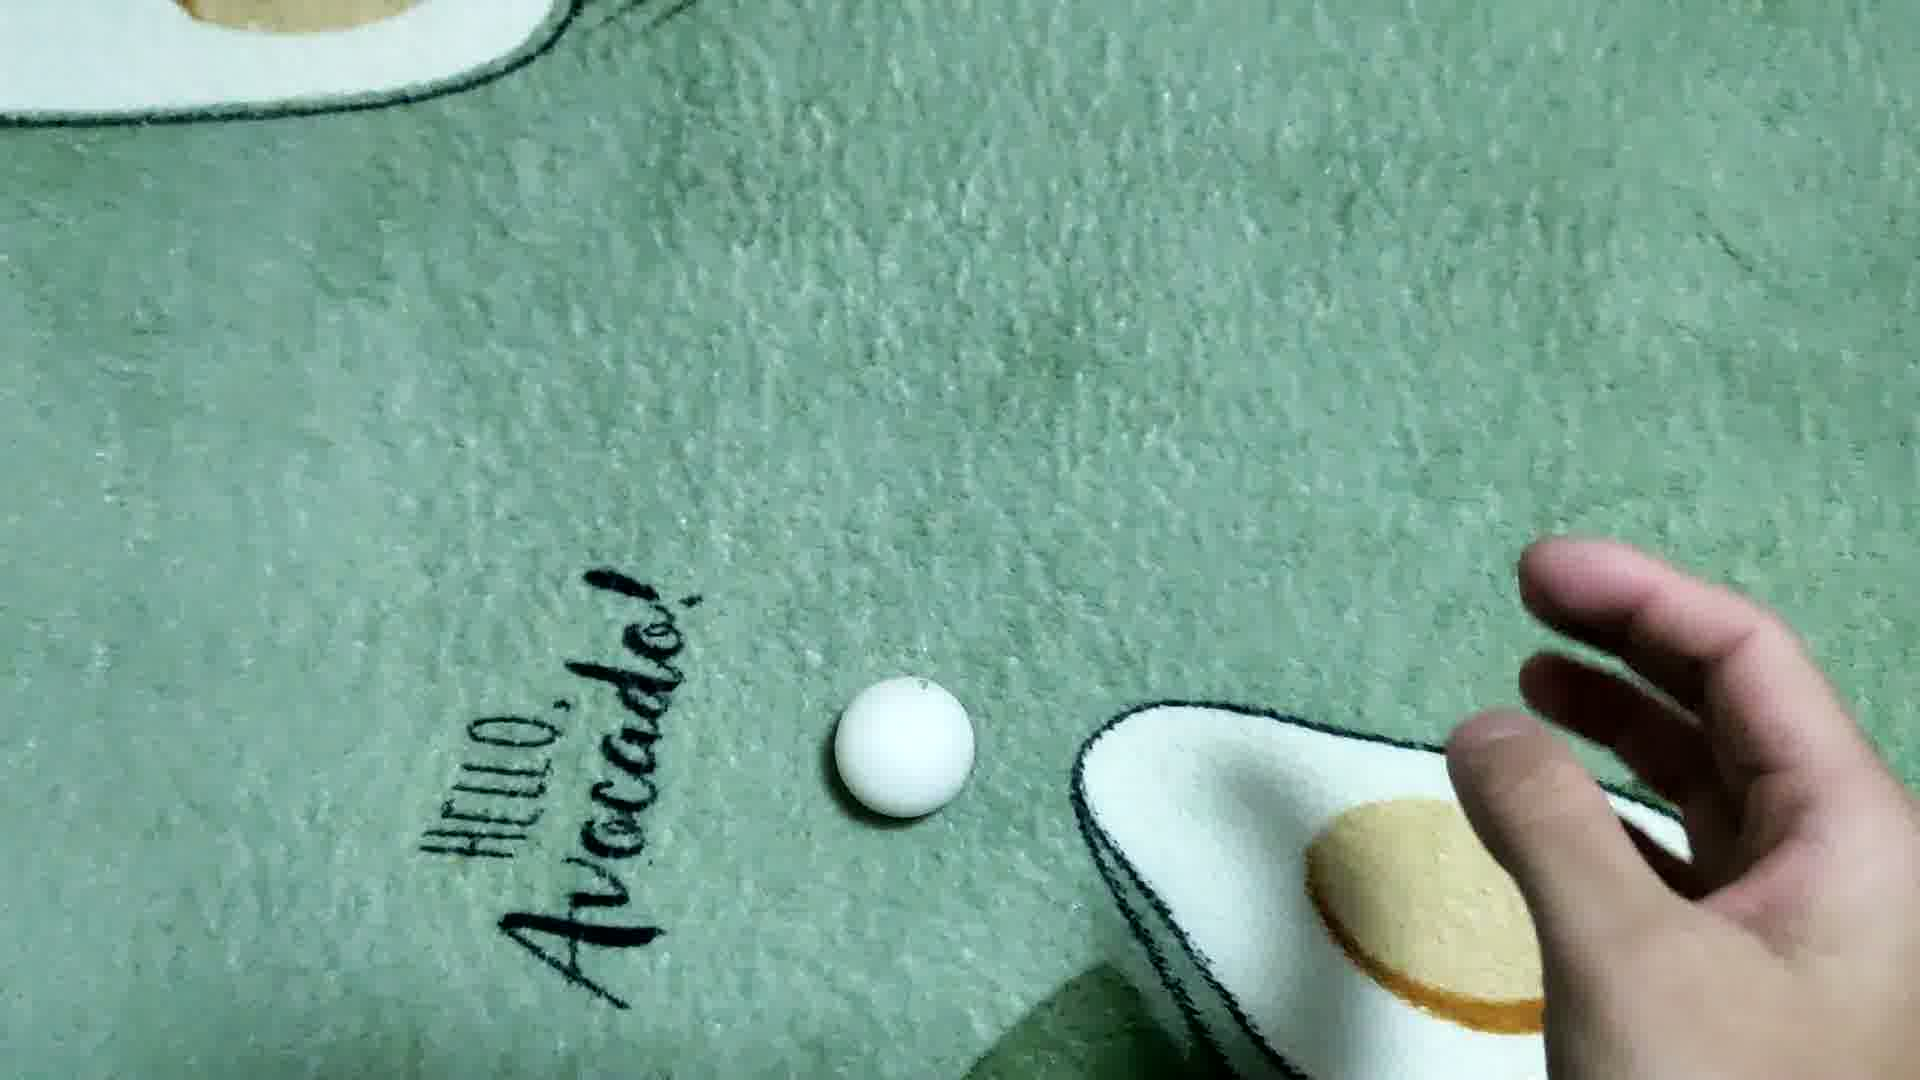Ball: (827, 674, 972, 816)
